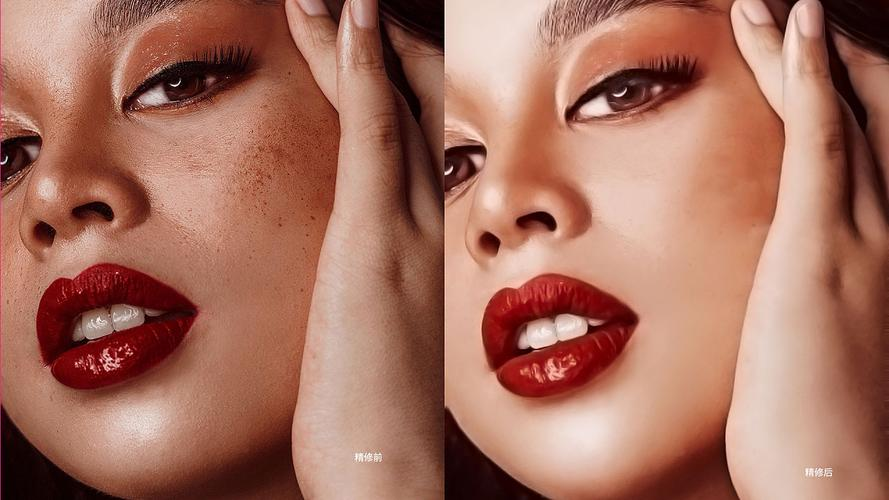nomask: (447, 6, 761, 477)
